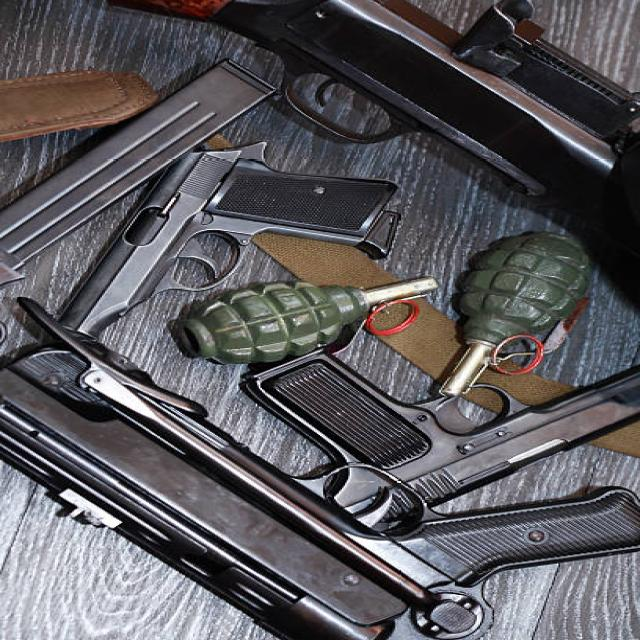grenade: (433, 229, 599, 402), (165, 272, 443, 371)
